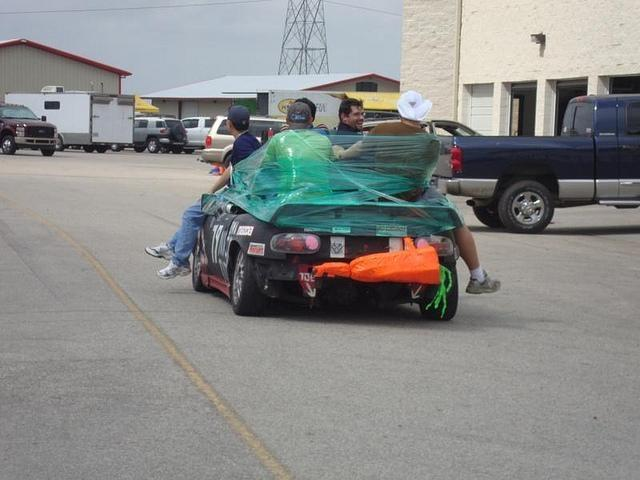car: (190, 195, 458, 319), (202, 116, 290, 168), (0, 100, 59, 154), (134, 113, 188, 154), (181, 116, 216, 150), (420, 121, 484, 137)
truck: (448, 92, 640, 236), (3, 86, 135, 156)
